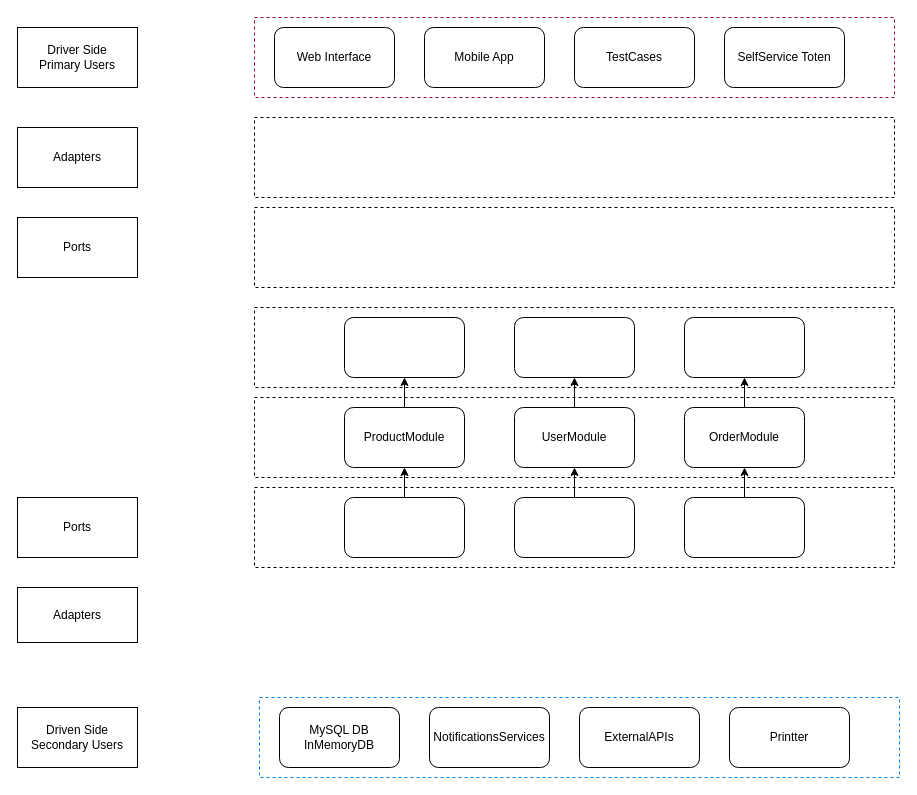
Image size: 917x795. Some labels were removed from this diagram. The shapes that lost their labels are listed below. From the top down, each one's centre as x and y in pixels, then its label:
At pixel 404 347: "ProductController".
At pixel 574 347: "UserController".
At pixel 744 347: "OrderController".
At pixel 404 527: "ProductRepository".
At pixel 574 527: "UserRepository".
At pixel 744 527: "OrderRepository".
